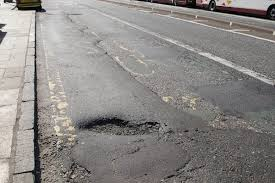pothole: (63, 101, 159, 145)
